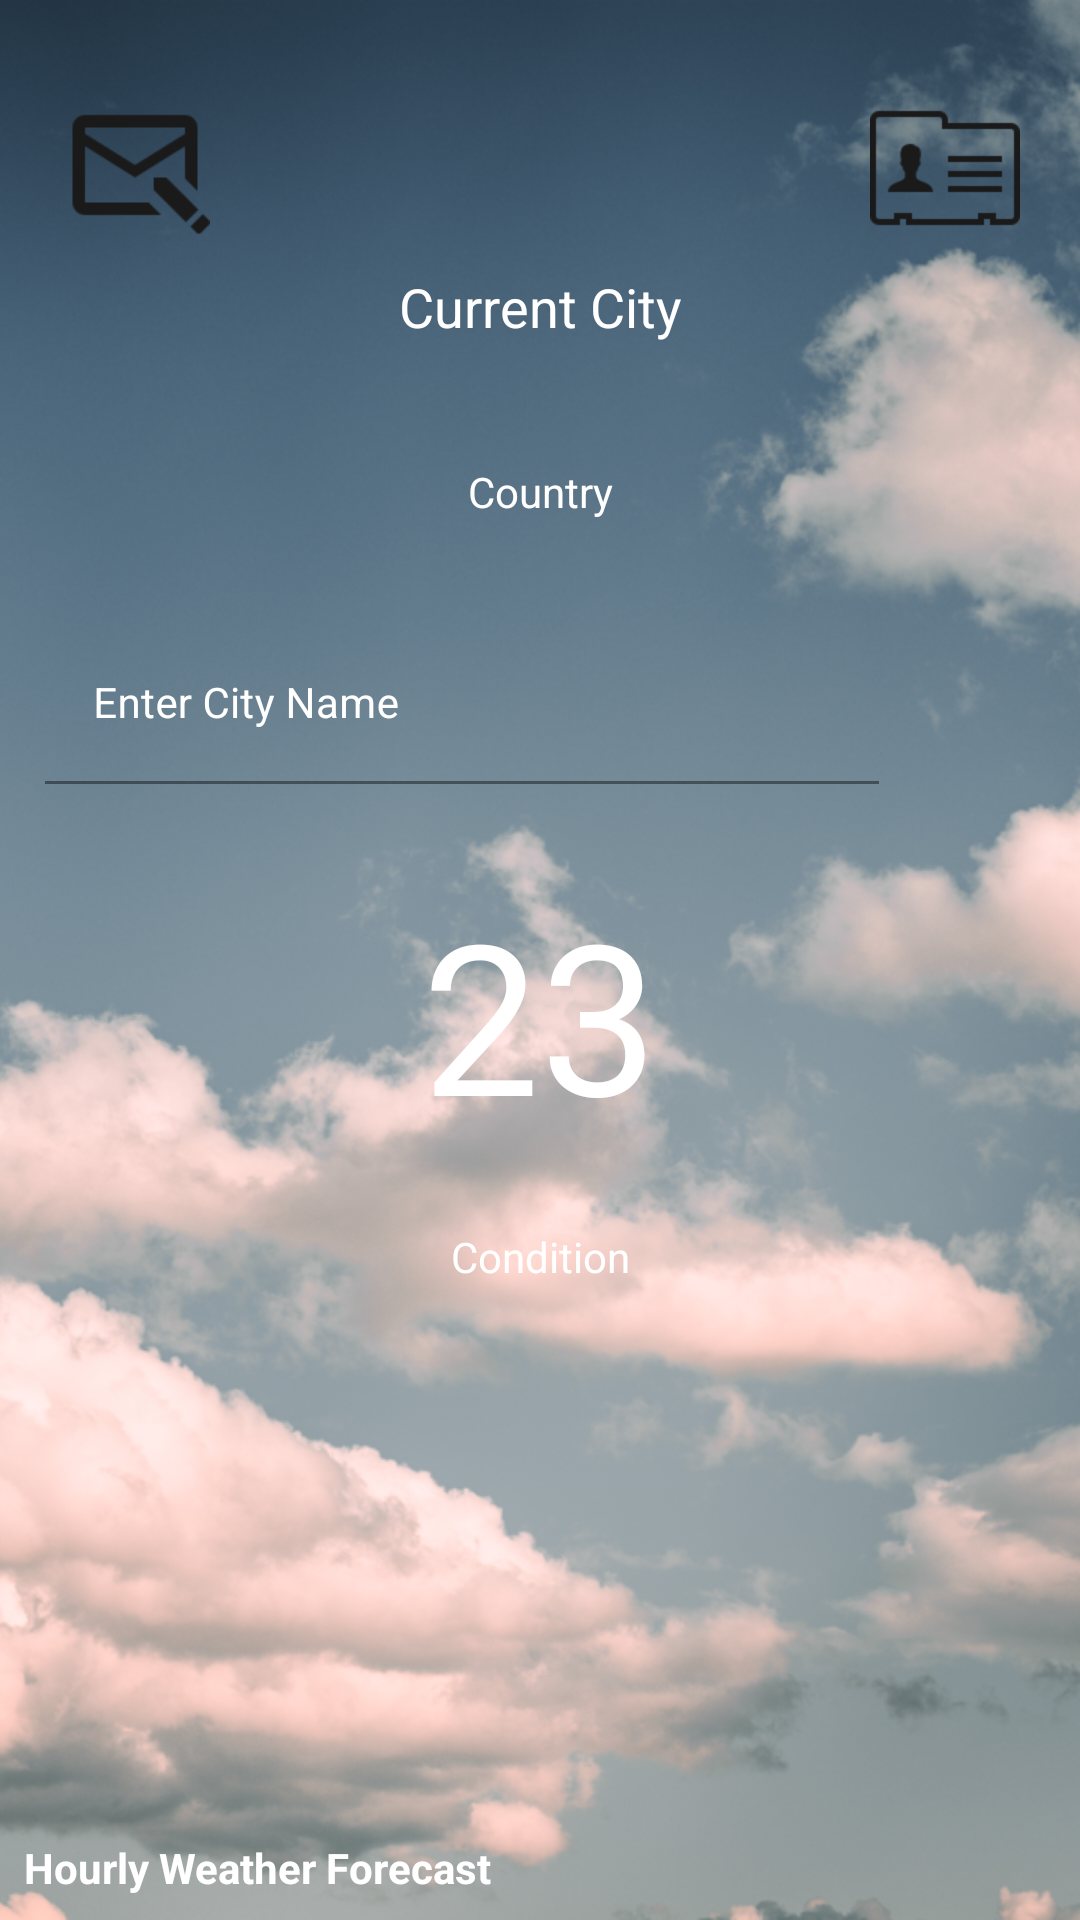

Point at icon controls on the screen. Image size 1080px x 1920px, points as point (x, y).
contact: point (933, 142)
mail: point (135, 165)
